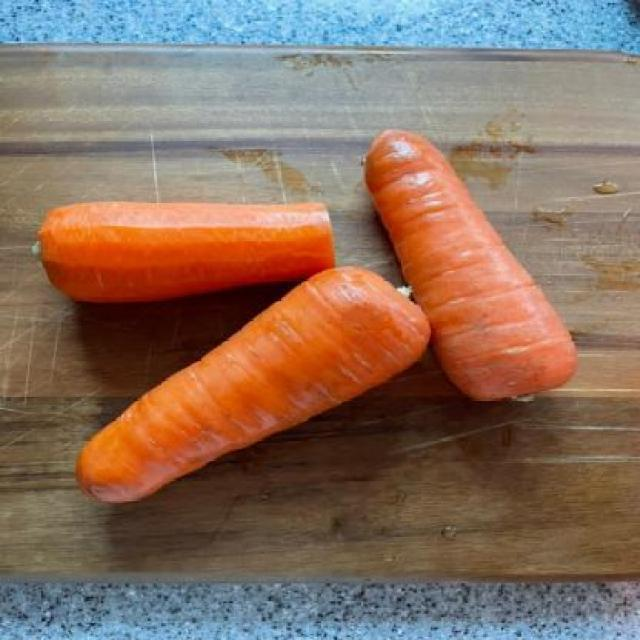carrot: (76, 268, 430, 502), (365, 130, 576, 400), (39, 201, 335, 302)
